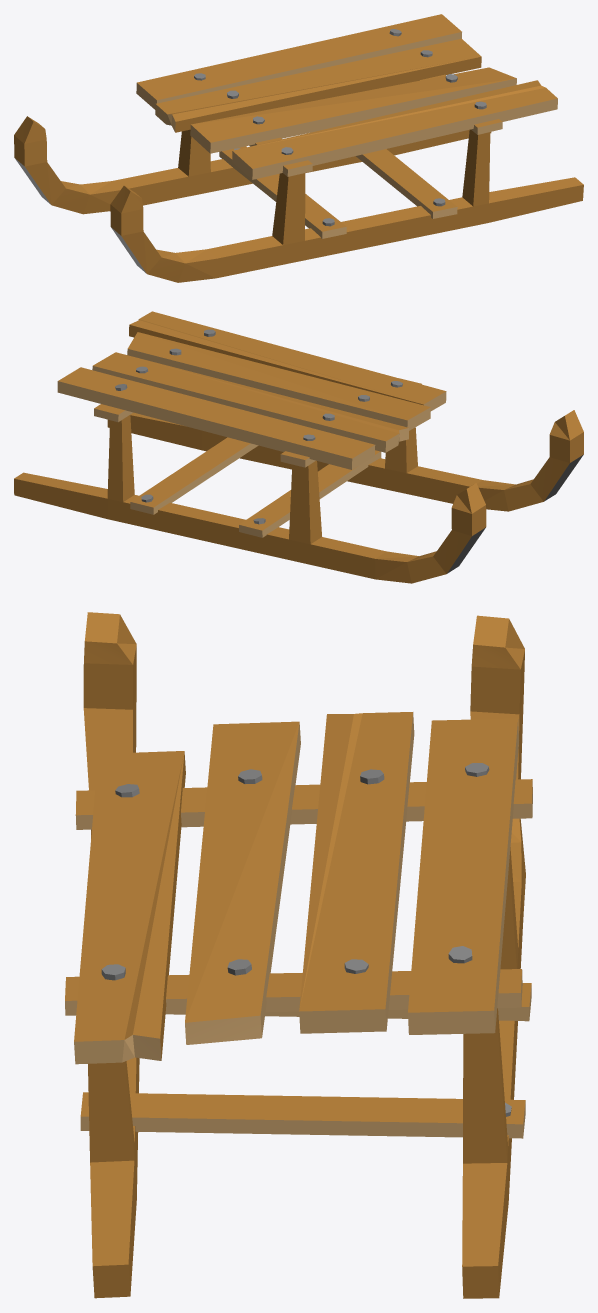
The picture shows the model from 3 angles, top to bottom: view 1: azimuth 30°, elevation 25°; view 2: azimuth 150°, elevation 25°; view 3: azimuth 270°, elevation 25°; orthographic projection. The views are drawn at different scales.
Parts seen in each view (by area): view 1: node_MeshObject-1791614976-PolyPaper22; view 2: node_MeshObject-1791614976-PolyPaper22; view 3: node_MeshObject-1791614976-PolyPaper22.
Part boxes in pixels (x1,y1,x2,y2): node_MeshObject-1791614976-PolyPaper22: [14, 14, 583, 282]; node_MeshObject-1791614976-PolyPaper22: [14, 311, 583, 583]; node_MeshObject-1791614976-PolyPaper22: [65, 612, 532, 1298].
Size of the model in its own units: 0.8698 by 0.227 by 0.3792.
